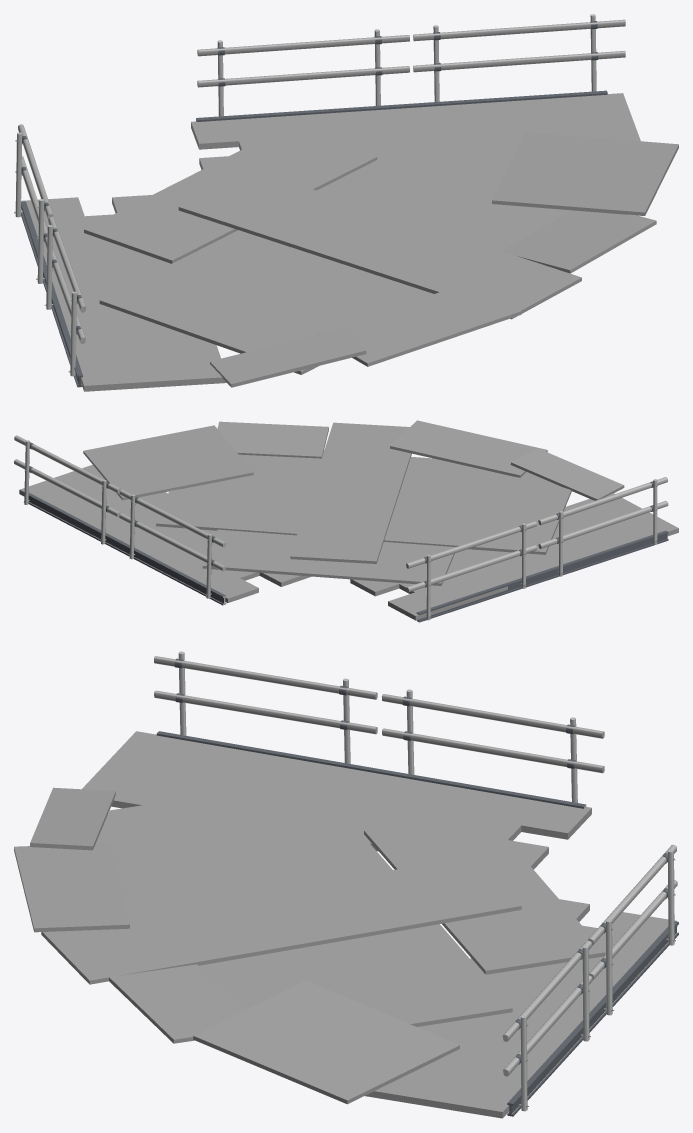
Rendered from Second Floor FBX.fbx.
3 renders of one model, top to bottom at view 1: azimuth 30°, elevation 25°; view 2: azimuth 150°, elevation 25°; view 3: azimuth 270°, elevation 25°, orthographic. The views are drawn at different scales.
Visible parts, largest first — view 1: Big, pCube41, Long1, Long, pCube40, Big1, Big3, Big2, Big4, railling (×4), railling1 (×2), polySurface22 (+1 smaller); view 2: Big, pCube41, Long1, Long, Big1, pCube40, Big3, Big2, railling1 (×4), railling (×4), Big4, polySurface23 (+1 smaller); view 3: Big, pCube41, Long1, Long, Big1, pCube40, Big3, Big2, railling (×4), railling1 (×4), Big4, polySurface22 (+1 smaller).
Part boxes in pixels (bbox=[...]): Big: bbox=[99, 131, 571, 374]; pCube41: bbox=[178, 168, 581, 319]; Long1: bbox=[21, 195, 226, 391]; Long: bbox=[191, 93, 640, 169]; pCube40: bbox=[84, 126, 377, 263]; Big1: bbox=[492, 132, 678, 215]; Big3: bbox=[317, 282, 521, 366]; Big2: bbox=[501, 210, 656, 273]; Big4: bbox=[210, 327, 366, 387]; railling (×4): bbox=[18, 19, 625, 312]; railling1 (×2): bbox=[197, 51, 625, 87]; polySurface22: bbox=[196, 90, 607, 121]; Big: bbox=[156, 450, 571, 554]; pCube41: bbox=[290, 422, 411, 563]; Long1: bbox=[350, 493, 678, 620]; Long: bbox=[19, 464, 310, 602]; Big1: bbox=[83, 425, 253, 500]; pCube40: bbox=[202, 529, 455, 585]; Big3: bbox=[390, 420, 547, 477]; Big2: bbox=[217, 421, 328, 458]; railling1 (×4): bbox=[14, 459, 668, 592]; railling (×4): bbox=[14, 435, 667, 568]; Big4: bbox=[510, 448, 624, 500]; polySurface23: bbox=[416, 530, 668, 622]; Big: bbox=[96, 779, 512, 1026]; pCube41: bbox=[41, 856, 521, 984]; Long1: bbox=[82, 731, 591, 869]; Long: bbox=[365, 899, 677, 1118]; Big1: bbox=[193, 980, 459, 1104]; pCube40: bbox=[364, 812, 605, 974]; Big3: bbox=[14, 843, 129, 932]; Big2: bbox=[109, 964, 244, 1043]; railling (×4): bbox=[154, 656, 676, 1041]; railling1 (×4): bbox=[154, 690, 677, 1076]; Big4: bbox=[30, 787, 115, 850]; polySurface22: bbox=[507, 921, 678, 1116].
Size of what is drawn, in the model's own units: 1392 by 161 by 1021.
